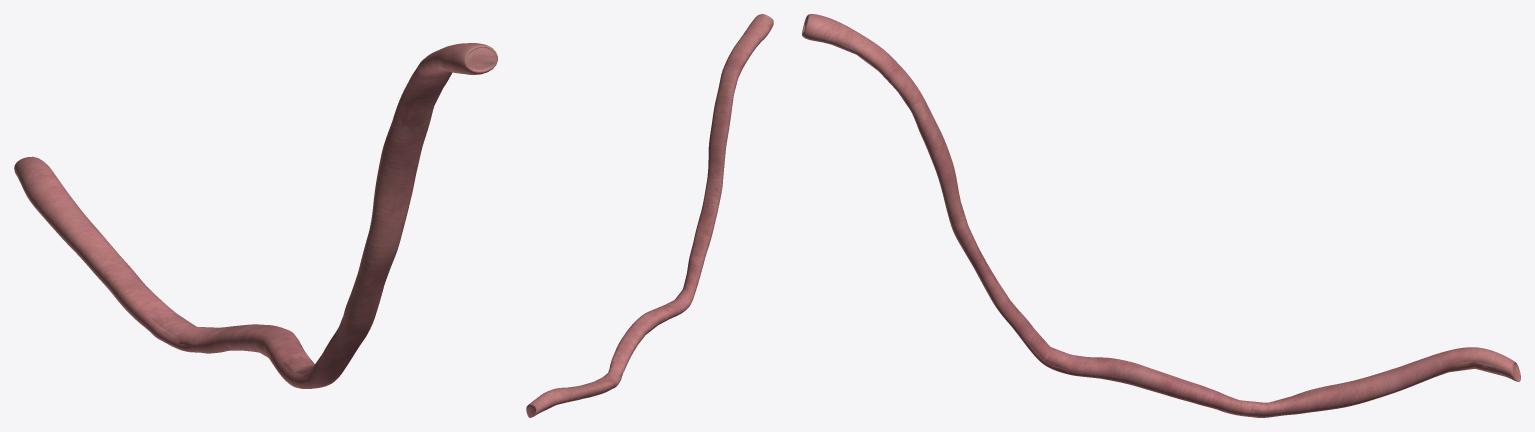
File: Esophagus.fbx
The picture shows the model from 3 angles, left to right: view 1: azimuth 30°, elevation 25°; view 2: azimuth 150°, elevation 25°; view 3: azimuth 270°, elevation 25°; orthographic projection. The views are drawn at different scales.
Parts seen in each view (by area): view 1: Esophagus high, Esophagus low, Esophagus; view 2: Esophagus high, Esophagus low, Esophagus; view 3: Esophagus high, Esophagus low, Esophagus.
Part boxes in pixels (x1=…): Esophagus high: x1=14, y1=43, x2=497, y2=388; Esophagus low: x1=78, y1=47, x2=495, y2=373; Esophagus: x1=81, y1=47, x2=496, y2=378; Esophagus high: x1=526, y1=14, x2=773, y2=417; Esophagus low: x1=527, y1=66, x2=743, y2=416; Esophagus: x1=527, y1=81, x2=737, y2=416; Esophagus high: x1=802, y1=14, x2=1520, y2=417; Esophagus low: x1=804, y1=17, x2=1519, y2=414; Esophagus: x1=803, y1=16, x2=1519, y2=415.
Size of the model in its own units: 7.24 by 55.84 by 90.93.
